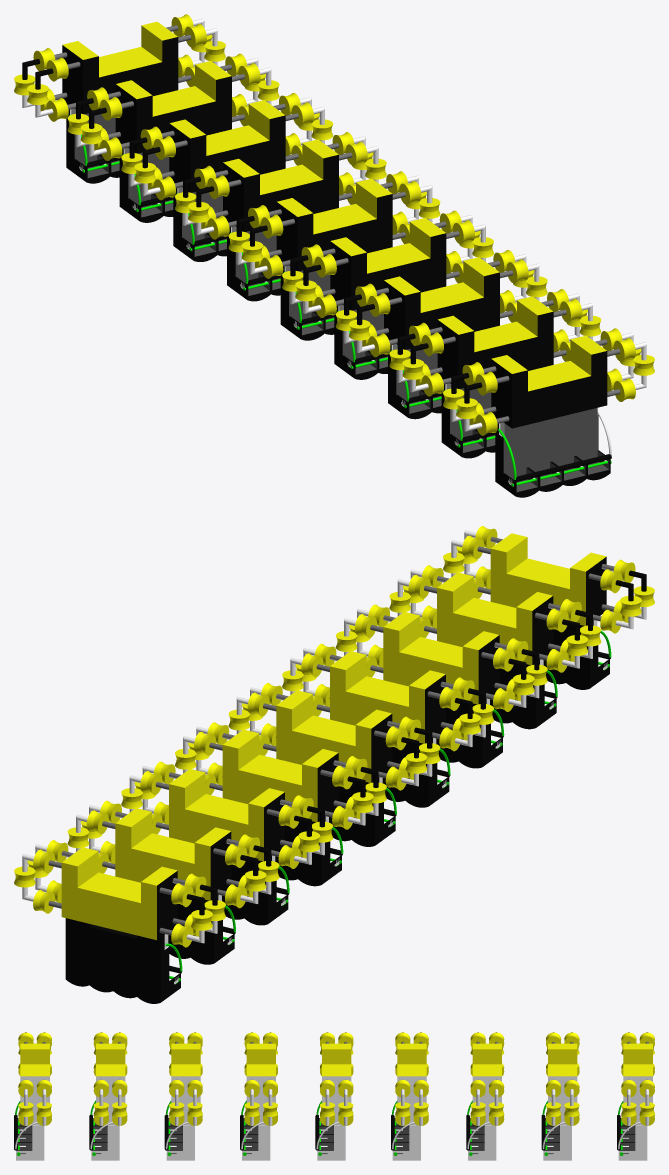
File: train.obj
The picture shows the model from 3 angles, top to bottom: view 1: azimuth 30°, elevation 25°; view 2: azimuth 150°, elevation 25°; view 3: azimuth 270°, elevation 25°; orthographic projection. The views are drawn at different scales.
Parts seen in each view (by area): view 1: Mesh183 seaat_set_a8 Model, Mesh159 seaat_set_a7 Model, Mesh39 seaat_set_a2 Model, Mesh15 seaat_set_a1 Model, Mesh111 seaat_set_a5 Model, Mesh231 seaat_set_a10 Model, Mesh63 seaat_set_a3 Model, Mesh87 seaat_set_a4 Model, Mesh207 seaat_set_a9 Model; view 2: Mesh231 seaat_set_a10 Model, Mesh15 seaat_set_a1 Model, Mesh39 seaat_set_a2 Model, Mesh87 seaat_set_a4 Model, Mesh159 seaat_set_a7 Model, Mesh207 seaat_set_a9 Model, Mesh183 seaat_set_a8 Model, Mesh63 seaat_set_a3 Model, Mesh111 seaat_set_a5 Model; view 3: Mesh231 seaat_set_a10 Model, Mesh207 seaat_set_a9 Model, Mesh15 seaat_set_a1 Model, Mesh111 seaat_set_a5 Model, Mesh39 seaat_set_a2 Model, Mesh63 seaat_set_a3 Model, Mesh183 seaat_set_a8 Model, Mesh159 seaat_set_a7 Model, Mesh87 seaat_set_a4 Model, Mesh25 f5 seaat_set_a2 Model, Mesh50 f10 seaat_set_a3 Model, Mesh74 f14 seaat_set_a4 Model (+11 smaller).
Boxes of the visible parts, x1,y1,x2,y2 form: Mesh183 seaat_set_a8 Model: (483, 335, 620, 497); Mesh159 seaat_set_a7 Model: (429, 296, 566, 458); Mesh39 seaat_set_a2 Model: (269, 178, 405, 340); Mesh15 seaat_set_a1 Model: (108, 61, 244, 222); Mesh111 seaat_set_a5 Model: (161, 100, 298, 261); Mesh231 seaat_set_a10 Model: (54, 21, 191, 183); Mesh63 seaat_set_a3 Model: (322, 218, 459, 379); Mesh87 seaat_set_a4 Model: (215, 139, 352, 301); Mesh207 seaat_set_a9 Model: (376, 257, 513, 419); Mesh231 seaat_set_a10 Model: (48, 847, 185, 1003); Mesh15 seaat_set_a1 Model: (102, 808, 239, 964); Mesh39 seaat_set_a2 Model: (263, 690, 399, 846); Mesh87 seaat_set_a4 Model: (209, 729, 346, 886); Mesh159 seaat_set_a7 Model: (424, 572, 560, 729); Mesh207 seaat_set_a9 Model: (370, 612, 507, 768); Mesh183 seaat_set_a8 Model: (477, 533, 614, 689); Mesh63 seaat_set_a3 Model: (316, 651, 453, 807); Mesh111 seaat_set_a5 Model: (155, 769, 292, 925); Mesh231 seaat_set_a10 Model: (617, 1041, 652, 1160); Mesh207 seaat_set_a9 Model: (164, 1041, 200, 1160); Mesh15 seaat_set_a1 Model: (541, 1041, 577, 1160); Mesh111 seaat_set_a5 Model: (466, 1041, 501, 1160); Mesh39 seaat_set_a2 Model: (315, 1041, 351, 1160); Mesh63 seaat_set_a3 Model: (240, 1041, 275, 1160); Mesh183 seaat_set_a8 Model: (14, 1041, 49, 1160); Mesh159 seaat_set_a7 Model: (89, 1041, 125, 1160); Mesh87 seaat_set_a4 Model: (391, 1041, 426, 1160); Mesh25 f5 seaat_set_a2 Model: (338, 1080, 353, 1097); Mesh50 f10 seaat_set_a3 Model: (244, 1080, 259, 1097); Mesh74 f14 seaat_set_a4 Model: (395, 1080, 410, 1097).
Bounding box in the file's own units: 173 × 106 × 697.
